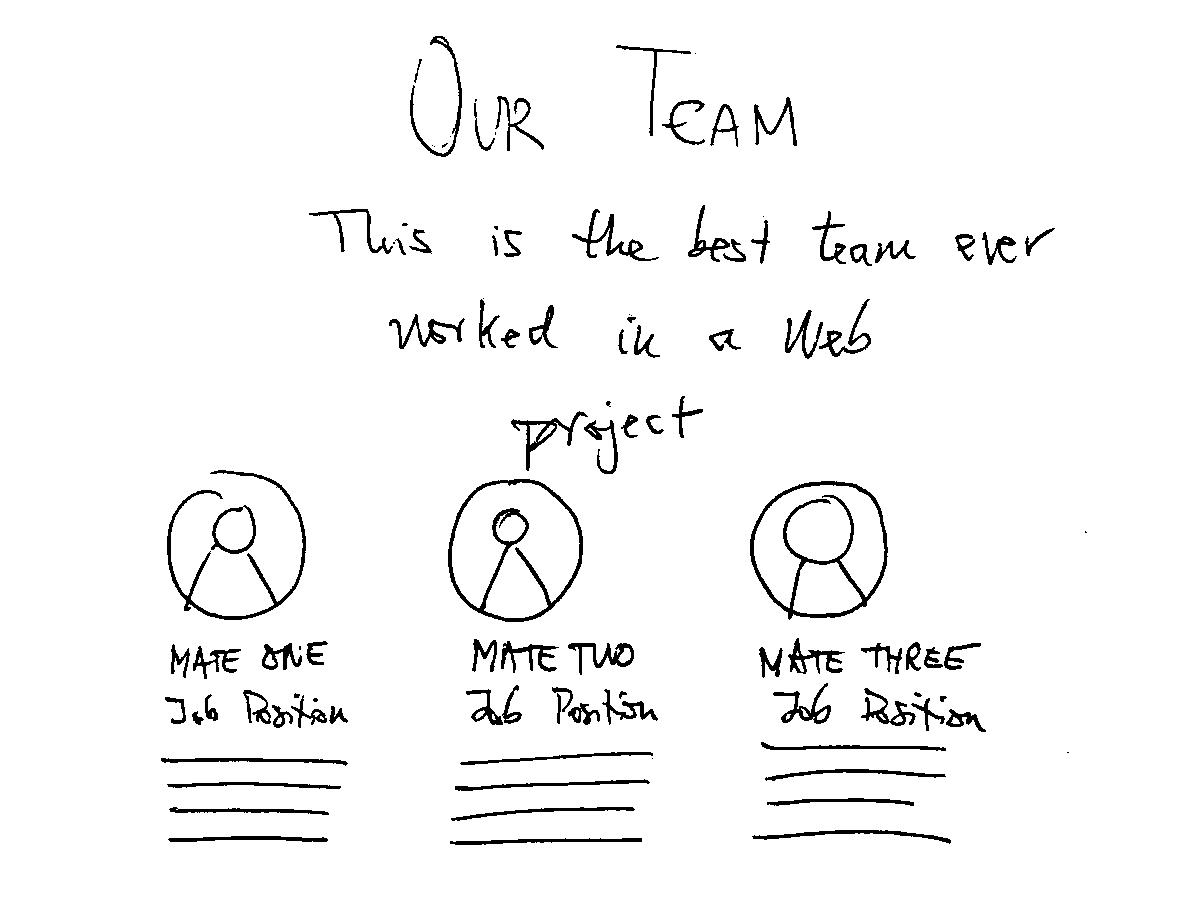Paragraph: (749, 735, 952, 848), (449, 745, 654, 853), (154, 751, 351, 853)
